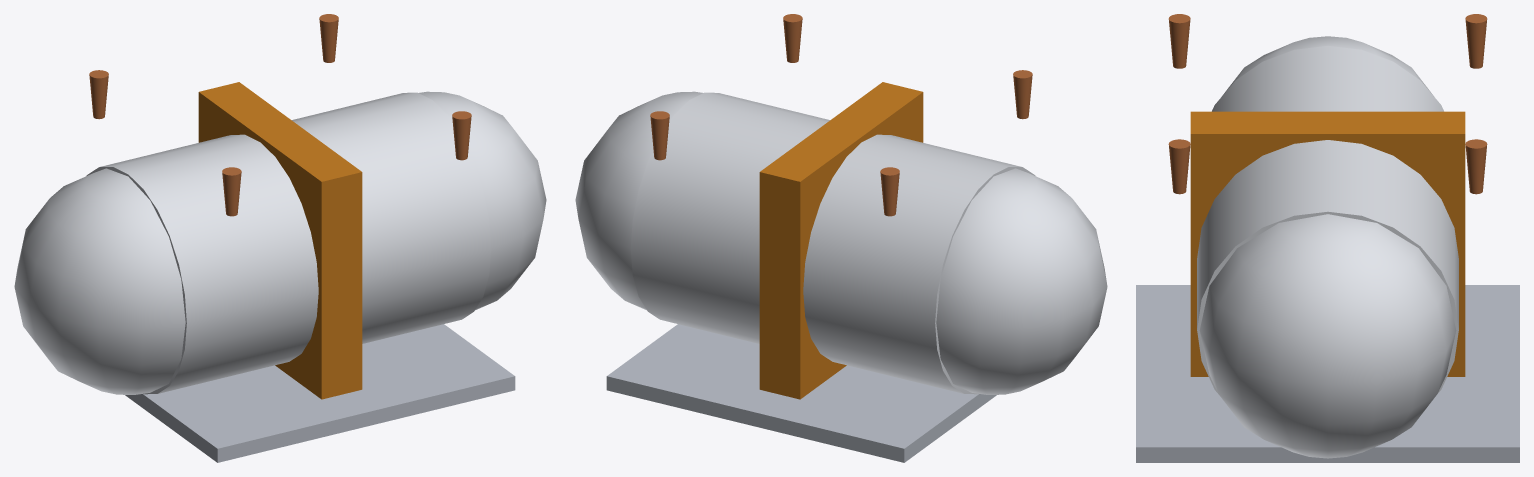
Rendered from coldgas.glb.
3 renders of one model, left to right at view 1: azimuth 30°, elevation 25°; view 2: azimuth 150°, elevation 25°; view 3: azimuth 270°, elevation 25°, orthographic. The views are drawn at different scales.
Visible parts, largest first — view 1: cg_tank, cg_tank_cap_l, cg_plate, cg_strap, cg_tank_cap_r, cg_nozzle_0, cg_nozzle_1, cg_nozzle_2, cg_nozzle_3; view 2: cg_tank, cg_tank_cap_l, cg_plate, cg_strap, cg_tank_cap_r, cg_nozzle_2, cg_nozzle_3, cg_nozzle_0, cg_nozzle_1; view 3: cg_tank_cap_r, cg_tank, cg_plate, cg_strap, cg_tank_cap_l, cg_nozzle_1, cg_nozzle_3, cg_nozzle_0, cg_nozzle_2.
Part boxes in pixels (left/top/right/bottom): cg_tank: left=86, top=92, right=491, bottom=394; cg_tank_cap_l: left=14, top=168, right=185, bottom=394; cg_plate: left=125, top=324, right=515, bottom=462; cg_strap: left=198, top=82, right=362, bottom=399; cg_tank_cap_r: left=419, top=91, right=546, bottom=310; cg_nozzle_0: left=222, top=167, right=241, bottom=216; cg_nozzle_1: left=452, top=111, right=471, bottom=160; cg_nozzle_2: left=89, top=70, right=108, bottom=119; cg_nozzle_3: left=319, top=14, right=338, bottom=62; cg_tank: left=630, top=92, right=1035, bottom=394; cg_tank_cap_l: left=936, top=168, right=1107, bottom=394; cg_plate: left=606, top=324, right=996, bottom=462; cg_strap: left=759, top=82, right=923, bottom=399; cg_tank_cap_r: left=575, top=91, right=702, bottom=310; cg_nozzle_2: left=880, top=167, right=899, bottom=216; cg_nozzle_3: left=650, top=111, right=669, bottom=160; cg_nozzle_0: left=1013, top=70, right=1032, bottom=119; cg_nozzle_1: left=783, top=14, right=802, bottom=62; cg_tank_cap_r: left=1199, top=214, right=1456, bottom=458; cg_tank: left=1197, top=46, right=1458, bottom=394; cg_plate: left=1136, top=285, right=1519, bottom=462; cg_strap: left=1190, top=111, right=1465, bottom=376; cg_tank_cap_l: left=1223, top=36, right=1432, bottom=94; cg_nozzle_1: left=1168, top=139, right=1190, bottom=194; cg_nozzle_3: left=1465, top=139, right=1487, bottom=194; cg_nozzle_0: left=1168, top=14, right=1190, bottom=68; cg_nozzle_2: left=1465, top=14, right=1487, bottom=68.
Size of the model in its own units: 0.1488 by 0.076 by 0.088.
